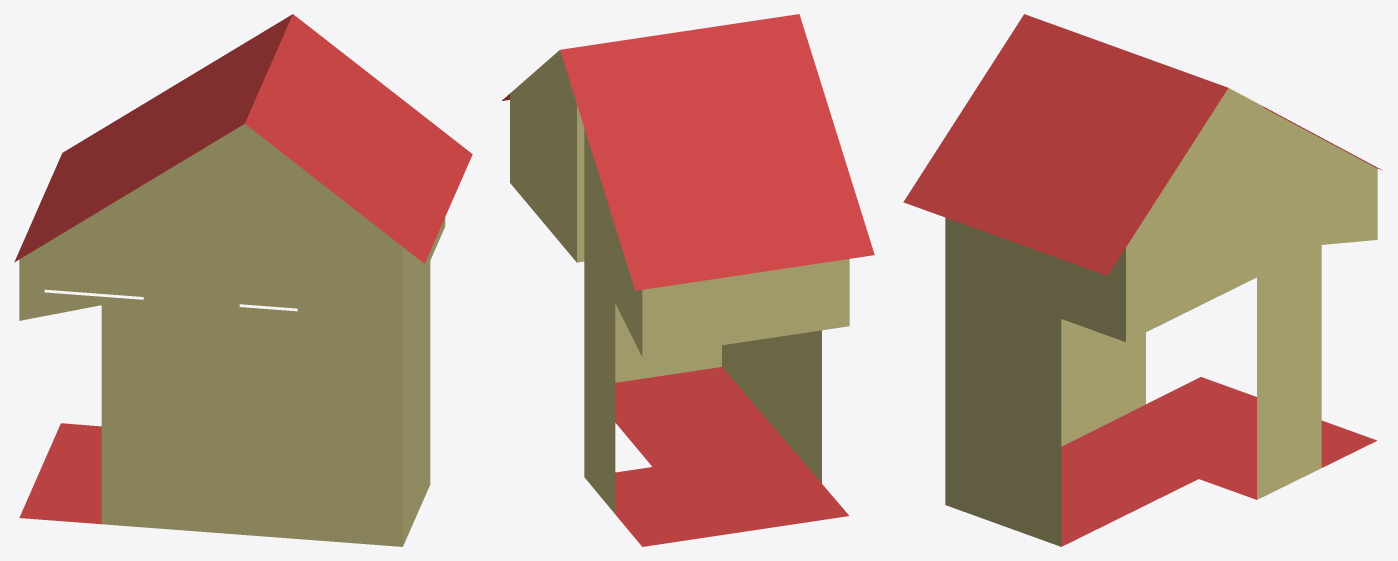
3 views of the same model, side by side, from view 1: azimuth 30°, elevation 25°; view 2: azimuth 150°, elevation 25°; view 3: azimuth 270°, elevation 25° (orthographic). The views are drawn at different scales.
Size of the model in its own units: 15.92 by 15.37 by 15.24.
